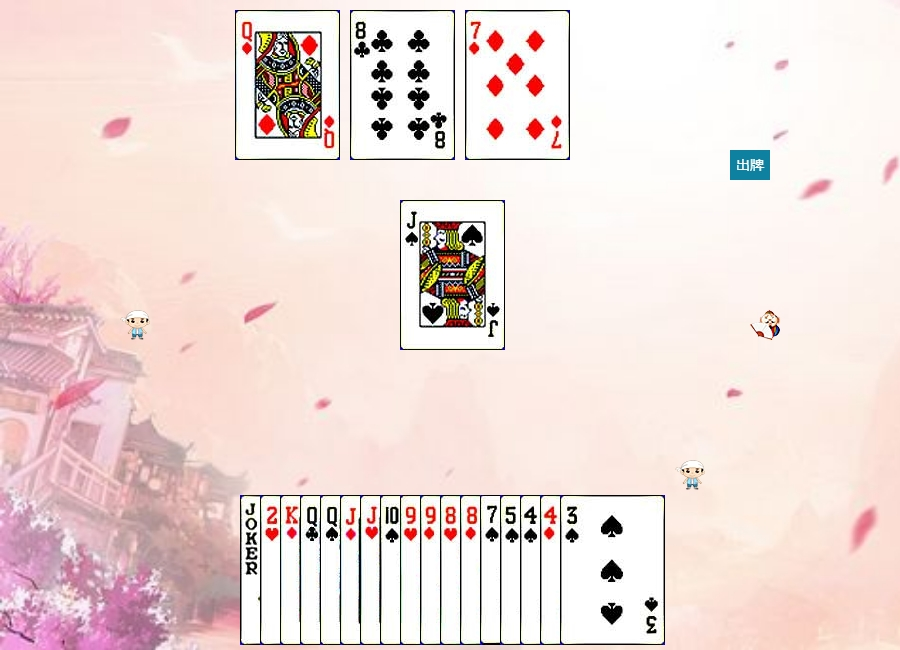10~4: (380, 495, 485, 645)
11~1: (340, 495, 445, 645)
11~3: (360, 495, 465, 645)
11~4: (400, 200, 505, 350)
12~1: (235, 10, 340, 160)
12~2: (300, 495, 405, 645)
12~4: (320, 495, 425, 645)
13~1: (280, 495, 385, 645)
15~3: (260, 495, 365, 645)
17~3: (240, 495, 345, 645)
3~4: (560, 495, 665, 645)
4~1: (540, 495, 645, 645)
4~4: (520, 495, 625, 645)
5~4: (500, 495, 605, 645)
7~1: (465, 10, 570, 160)
7~4: (480, 495, 585, 645)
8~1: (460, 495, 565, 645)
8~2: (350, 10, 455, 160)
8~3: (440, 495, 545, 645)
9~1: (420, 495, 525, 645)
9~3: (400, 495, 505, 645)
